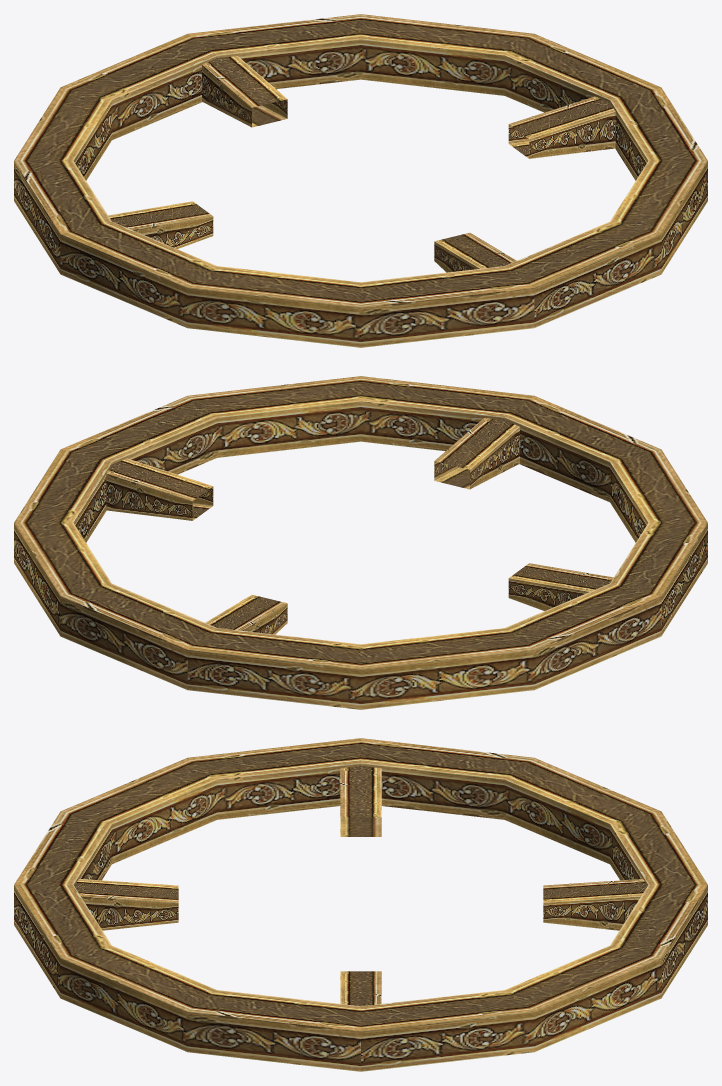
File: Chandelier01_Maincity_001.FBX
The picture shows the model from 3 angles, top to bottom: view 1: azimuth 30°, elevation 25°; view 2: azimuth 150°, elevation 25°; view 3: azimuth 270°, elevation 25°; orthographic projection.
Parts seen in each view (by area): view 1: Chandelier01_Maincity_001; view 2: Chandelier01_Maincity_001; view 3: Chandelier01_Maincity_001.
Boxes of the visible parts, left/top/right/bottom form: Chandelier01_Maincity_001: left=14, top=14, right=707, bottom=347; Chandelier01_Maincity_001: left=14, top=376, right=707, bottom=709; Chandelier01_Maincity_001: left=14, top=738, right=707, bottom=1071.
Bounding box in the file's own units: 467 × 30.06 × 467.
